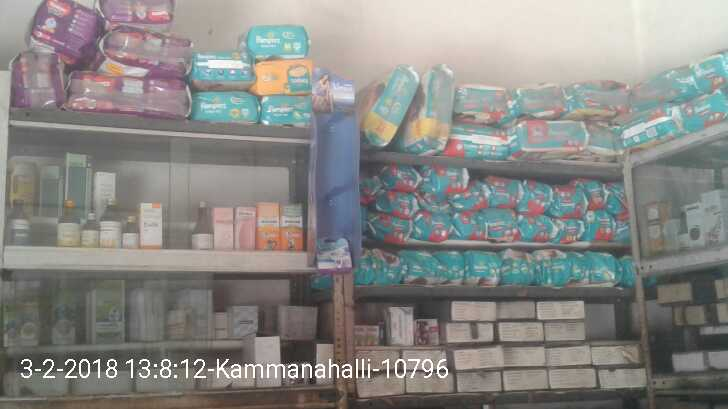pampers: (514, 121, 587, 157), (245, 22, 314, 60), (455, 81, 517, 122), (608, 114, 681, 147), (262, 89, 317, 130), (575, 247, 634, 285), (446, 120, 509, 155), (192, 93, 264, 121), (255, 59, 314, 93), (515, 82, 569, 116), (196, 49, 246, 84), (399, 247, 442, 287), (461, 246, 501, 289), (572, 81, 629, 111), (533, 245, 570, 286), (354, 249, 397, 284), (520, 175, 554, 215), (373, 189, 419, 218), (500, 248, 535, 286), (382, 161, 423, 190), (553, 184, 588, 216), (431, 167, 473, 193), (450, 208, 481, 243), (416, 209, 453, 238), (482, 215, 519, 242), (488, 175, 517, 208), (525, 213, 559, 241), (558, 216, 585, 243)
